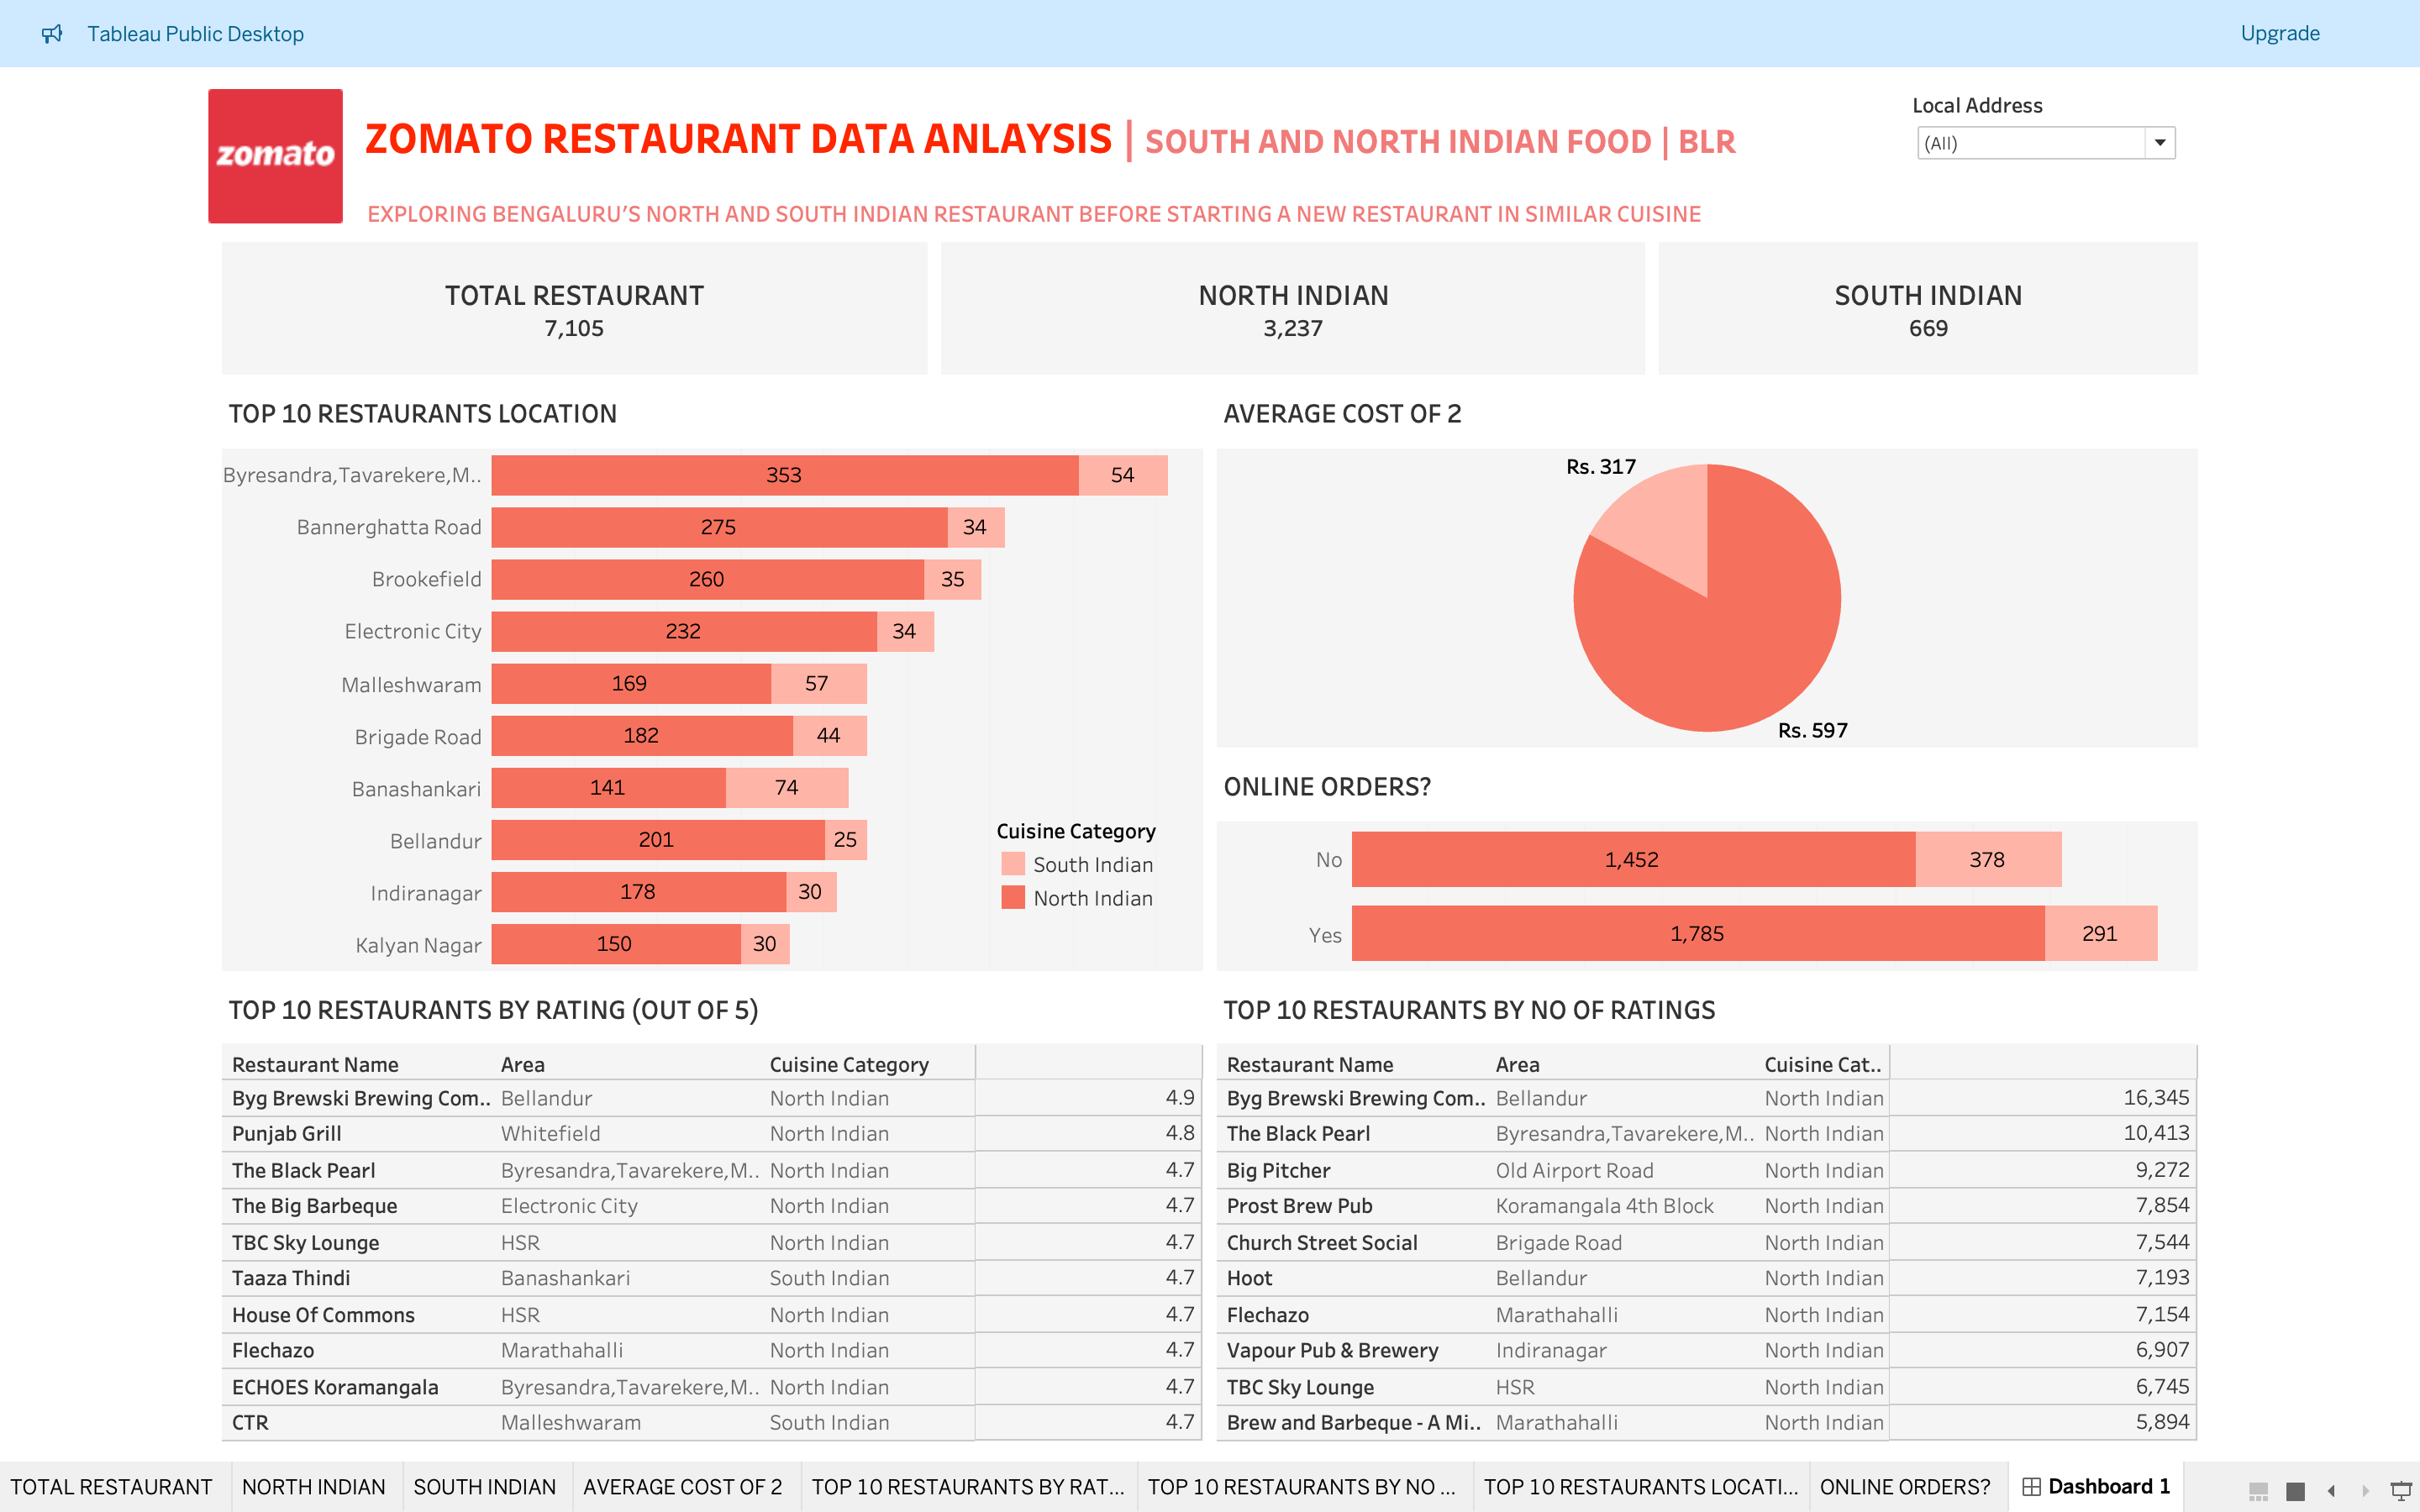

What the dashboard file says about the page in this screenshot:
{"tool":"tableau","page":{"name":"Dashboard 1","canvas":[1000,1000],"units":"permille","ordinal":0},"visuals":[{"type":"title","box":[6.7,12.2,986.7,100.8]},{"type":"filter","title":"TOP 10 RESTAURANTS LOCATION","param":"[federated.0wk2h6k1vg0fqk17hc61m04tlblz].[none:local address:nk]","box":[848.3,16.8,133.3,64.1]},{"type":"text","box":[6.7,113,986.7,39.7]},{"type":"worksheet","title":"TOTAL RESTAURANT","mark":"Automatic","box":[6.7,152.7,356.2,100.5]},{"type":"worksheet","title":"NORTH INDIAN","mark":"Automatic","box":[362.9,152.7,356.2,100.5]},{"type":"worksheet","title":"SOUTH INDIAN","mark":"Automatic","box":[719.1,152.7,274.2,100.5]},{"type":"worksheet","title":"TOP 10 RESTAURANTS LOCATION","mark":"Automatic","rows":["area"],"cols":["F1"],"box":[6.7,253.2,493.3,410.2]},{"type":"worksheet","title":"AVERAGE COST OF 2","mark":"Pie","box":[500,253.2,493.3,256.9]},{"type":"worksheet","title":"ONLINE ORDERS?","mark":"Automatic","rows":["online_order"],"cols":["F1"],"box":[500,510,493.3,153.4]},{"type":"legend","title":"TOP 10 RESTAURANTS LOCATION","param":"[federated.0wk2h6k1vg0fqk17hc61m04tlblz].[none:Calculation_162340724573253632:nk","box":[394.2,537.4,98.3,88.5]},{"type":"worksheet","title":"TOP 10 RESTAURANTS BY RATING (OUT OF 5)","mark":"Automatic","rows":["restaurant name","area","Calculation_162340724573253632"],"box":[6.7,663.4,493.3,324.4]},{"type":"worksheet","title":"TOP 10 RESTAURANTS BY NO OF RATINGS","mark":"Automatic","rows":["restaurant name","area","Calculation_162340724573253632"],"box":[500,663.4,493.3,324.4]}]}

Visuals, with their boxes on the dashboard's canvas, which has no fixed pixel size, in thousandths of its width and height (x1, y1, x2, y2). These are canvas units, not pixel positions in the 2420x1512 screenshot, which may show the page scaled, cropped or inside an application window:
title: {"x1": 7, "y1": 12, "x2": 993, "y2": 113}
"TOP 10 RESTAURANTS LOCATION" filter: {"x1": 848, "y1": 17, "x2": 982, "y2": 81}
text: {"x1": 7, "y1": 113, "x2": 993, "y2": 153}
"TOTAL RESTAURANT" worksheet: {"x1": 7, "y1": 153, "x2": 363, "y2": 253}
"NORTH INDIAN" worksheet: {"x1": 363, "y1": 153, "x2": 719, "y2": 253}
"SOUTH INDIAN" worksheet: {"x1": 719, "y1": 153, "x2": 993, "y2": 253}
"TOP 10 RESTAURANTS LOCATION" worksheet: {"x1": 7, "y1": 253, "x2": 500, "y2": 663}
"AVERAGE COST OF 2" worksheet (Pie marks): {"x1": 500, "y1": 253, "x2": 993, "y2": 510}
"ONLINE ORDERS?" worksheet: {"x1": 500, "y1": 510, "x2": 993, "y2": 663}
"TOP 10 RESTAURANTS LOCATION" legend: {"x1": 394, "y1": 537, "x2": 492, "y2": 626}
"TOP 10 RESTAURANTS BY RATING (OUT OF 5)" worksheet: {"x1": 7, "y1": 663, "x2": 500, "y2": 988}
"TOP 10 RESTAURANTS BY NO OF RATINGS" worksheet: {"x1": 500, "y1": 663, "x2": 993, "y2": 988}
